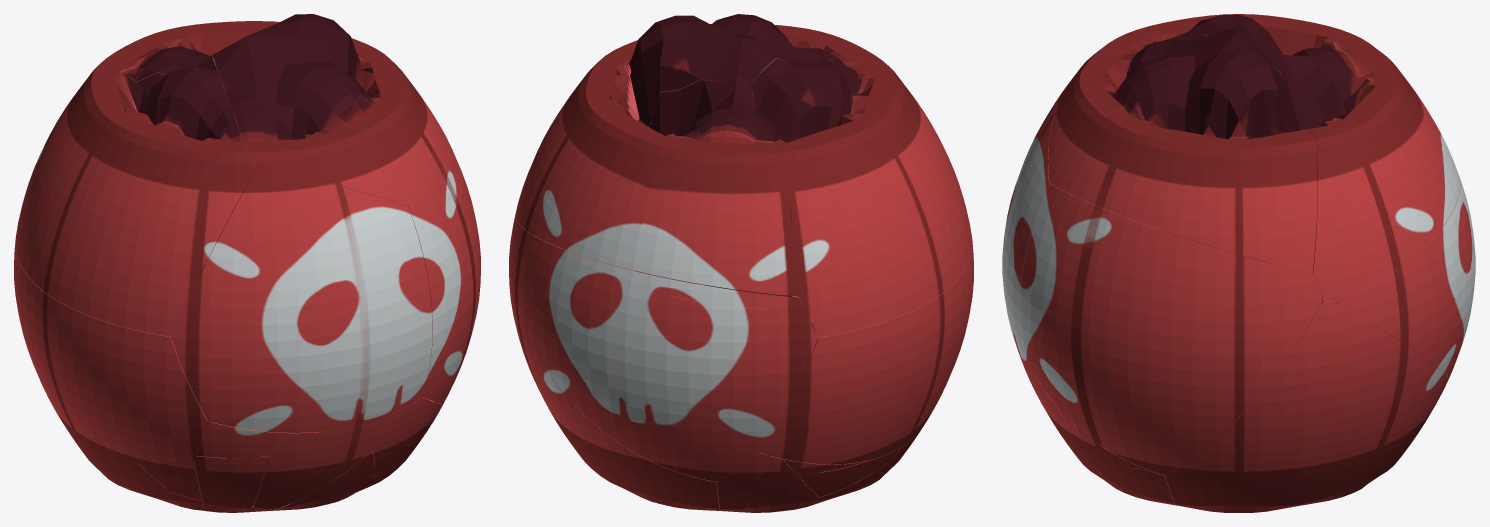
The model's file is barrel_shattered.fbx.
3 renders of one model, left to right at view 1: azimuth 30°, elevation 25°; view 2: azimuth 150°, elevation 25°; view 3: azimuth 270°, elevation 25°, orthographic.
Visible parts, largest first — view 1: barrel_cell.009, barrel_cell.002, barrel_cell, barrel_cell.003, barrel_cell.006, barrel_cell.004_cell.001, barrel_cell.008, barrel_cell.004_cell.005, barrel_cell.004_cell.004, barrel_cell.004_cell.003, barrel_cell.004_cell, barrel_cell.001_cell.002 (+1 smaller); view 2: barrel_cell.005, barrel_cell.008, barrel_cell.002, barrel_cell.003, barrel_cell, barrel_cell.007, barrel_cell.001_cell.009, barrel_cell.001_cell, barrel_cell.001_cell.003, barrel_cell.001_cell.004, barrel_cell.001_cell.006; view 3: barrel_cell.006, barrel_cell, barrel_cell.007, barrel_cell.008, barrel_cell.005, barrel_cell.009, barrel_cell.002, barrel_cell.004_cell.002, barrel_cell.004_cell.004, barrel_cell.004_cell.007.
Boxes of the visible parts, x1,y1,x2,y2 form: barrel_cell.009: (171, 171, 432, 432); barrel_cell.002: (15, 56, 254, 336); barrel_cell: (212, 14, 449, 206); barrel_cell.003: (14, 240, 207, 464); barrel_cell.006: (408, 139, 480, 403); barrel_cell.004_cell.001: (253, 417, 383, 509); barrel_cell.008: (90, 21, 279, 82); barrel_cell.004_cell.005: (194, 449, 268, 512); barrel_cell.004_cell.004: (373, 397, 435, 477); barrel_cell.004_cell.003: (196, 421, 287, 458); barrel_cell.004_cell: (278, 450, 374, 509); barrel_cell.001_cell.002: (79, 441, 171, 498); barrel_cell.005: (511, 216, 817, 481); barrel_cell.008: (515, 77, 798, 296); barrel_cell.002: (751, 55, 972, 337); barrel_cell.003: (760, 241, 973, 464); barrel_cell: (535, 14, 874, 155); barrel_cell.007: (509, 208, 721, 510); barrel_cell.001_cell.009: (742, 454, 818, 512); barrel_cell.001_cell: (717, 453, 765, 512); barrel_cell.001_cell.003: (797, 447, 900, 497); barrel_cell.001_cell.004: (810, 456, 894, 505); barrel_cell.001_cell.006: (783, 459, 865, 473); barrel_cell.006: (1020, 183, 1322, 475); barrel_cell: (1048, 24, 1317, 273); barrel_cell.007: (1165, 298, 1448, 512); barrel_cell.008: (1271, 34, 1459, 303); barrel_cell.005: (1338, 177, 1475, 378); barrel_cell.009: (1002, 81, 1070, 372); barrel_cell.002: (1093, 14, 1351, 55); barrel_cell.004_cell.002: (1096, 462, 1180, 506); barrel_cell.004_cell.004: (1022, 361, 1096, 468); barrel_cell.004_cell.007: (1059, 409, 1142, 468).
Bounding box in the file's own units: 207 × 203 × 207.
